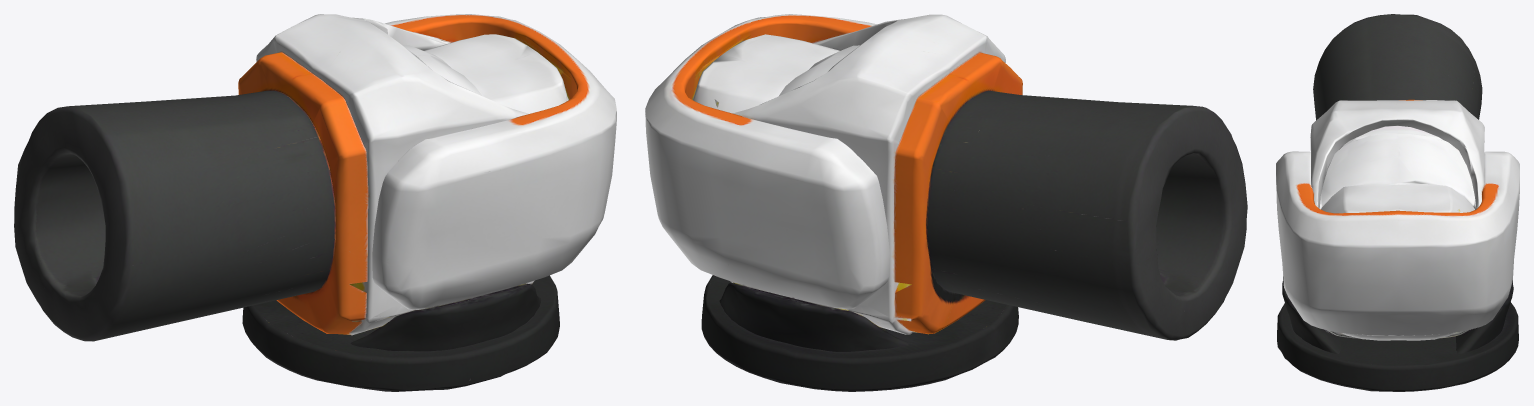
File: Meshy_AI_Modular_Telecentric_L_0714152024_texture.glb
The picture shows the model from 3 angles, left to right: view 1: azimuth 30°, elevation 25°; view 2: azimuth 150°, elevation 25°; view 3: azimuth 270°, elevation 25°; orthographic projection. The views are drawn at different scales.
Size of the model in its own units: 1 by 0.5488 by 0.5469.
Materials: 1 (1 with a texture image).
